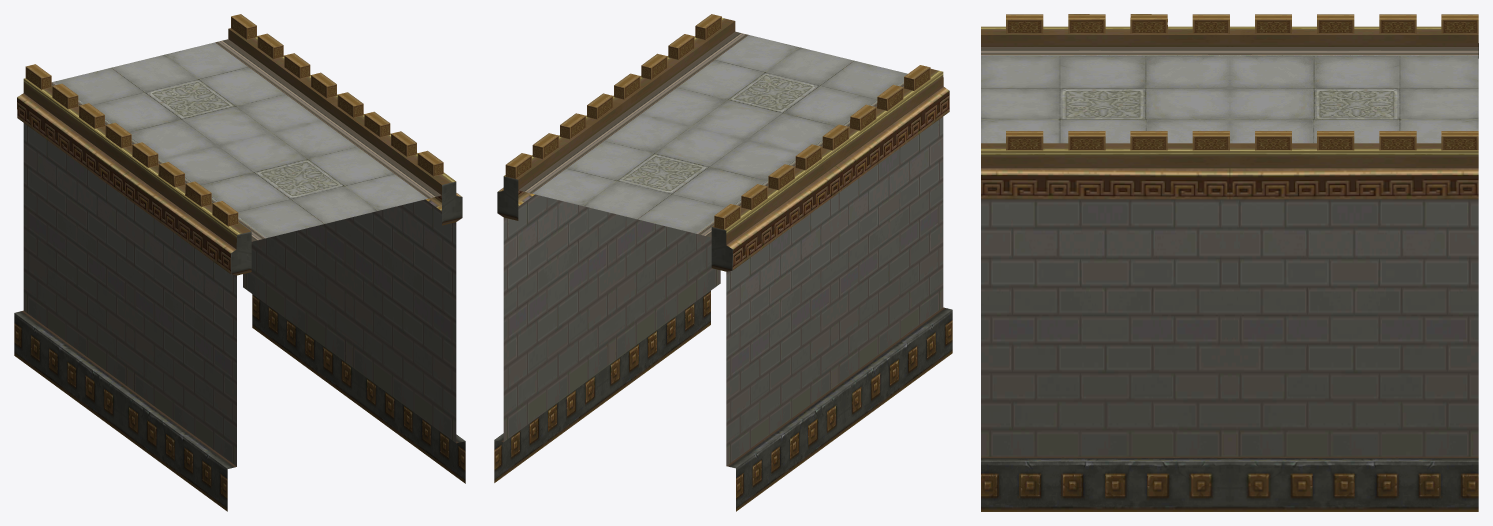
The model's file is Yland1_jz_10 Yland1.FBX.
3 views of the same model, side by side, from view 1: azimuth 30°, elevation 25°; view 2: azimuth 150°, elevation 25°; view 3: azimuth 270°, elevation 25° (orthographic). The views are drawn at different scales.
Visible parts, largest first — view 1: Yland1_jz_10 Yland1; view 2: Yland1_jz_10 Yland1; view 3: Yland1_jz_10 Yland1.
Part boxes in pixels (x1=…): Yland1_jz_10 Yland1: x1=14, y1=14, x2=465, y2=511; Yland1_jz_10 Yland1: x1=494, y1=14, x2=952, y2=511; Yland1_jz_10 Yland1: x1=981, y1=14, x2=1478, y2=511.
Size of the model in its own units: 7.66 by 9.74 by 11.91.
